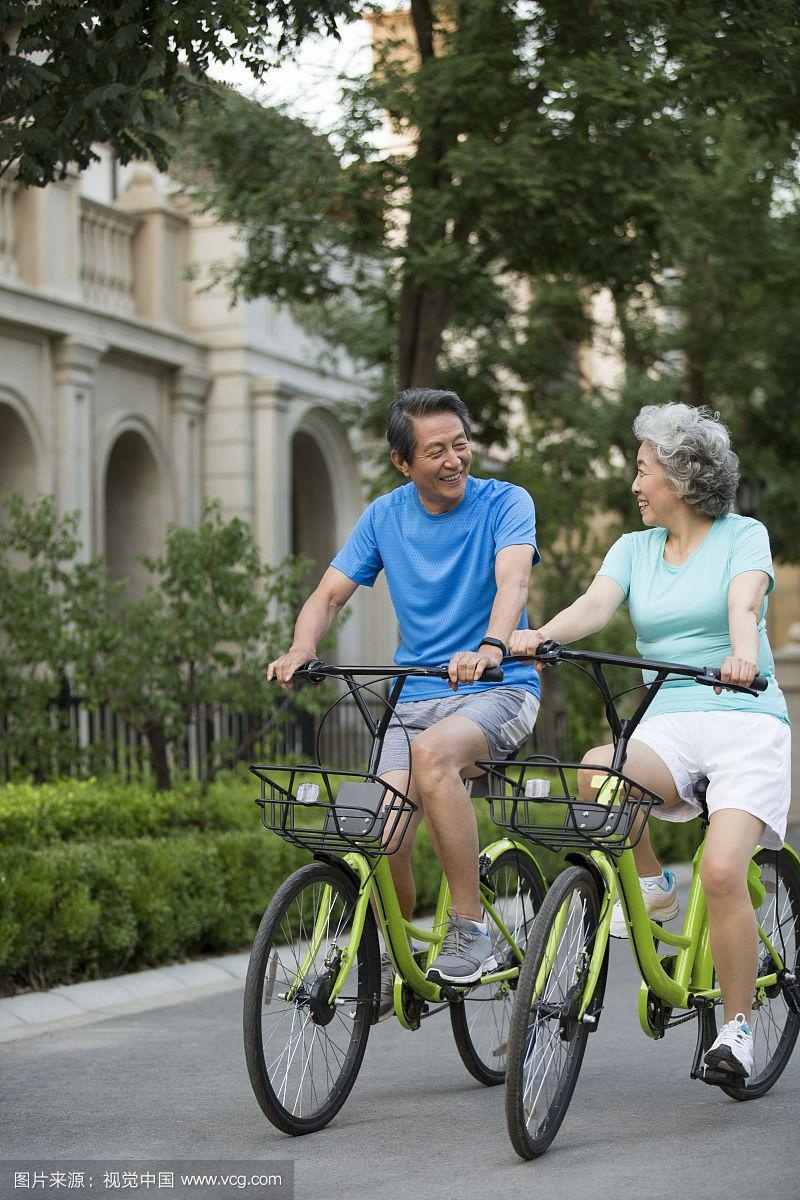non-vehicle: (234, 649, 549, 1138), (498, 674, 800, 1163)
